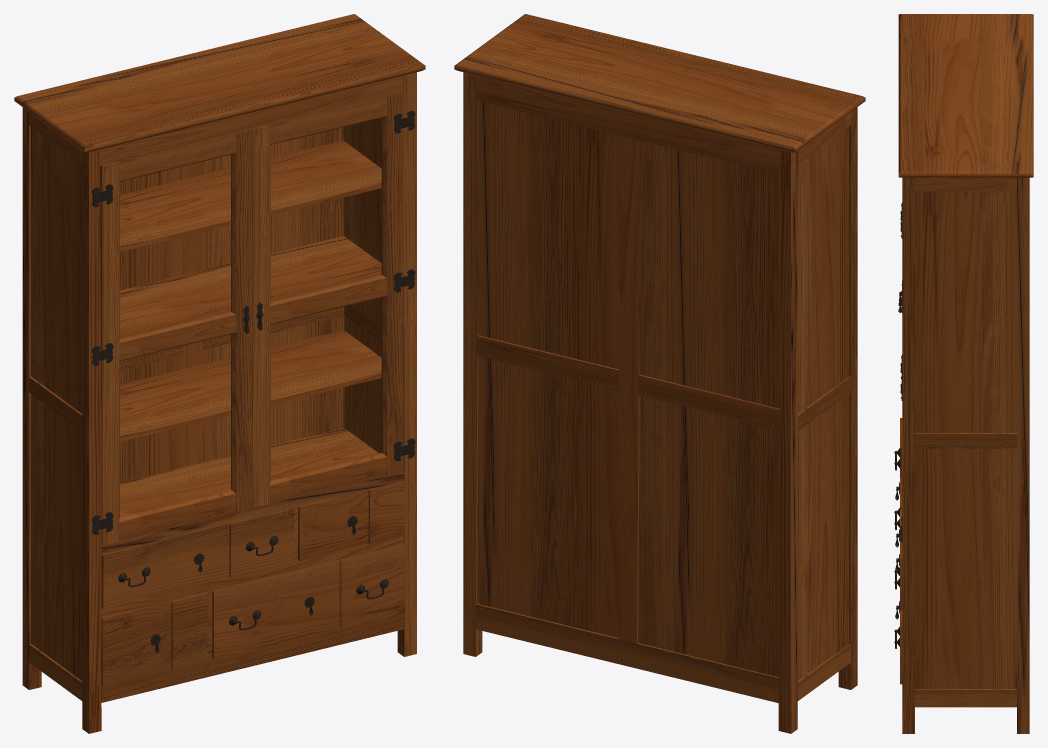
File: Cupb4.gltf
The picture shows the model from 3 angles, left to right: view 1: azimuth 30°, elevation 25°; view 2: azimuth 150°, elevation 25°; view 3: azimuth 270°, elevation 25°; orthographic projection. The views are drawn at different scales.
Size of what is drawn, in the model's own units: 112 by 185 by 41.28.
Materials: 2 (1 with a texture image).
